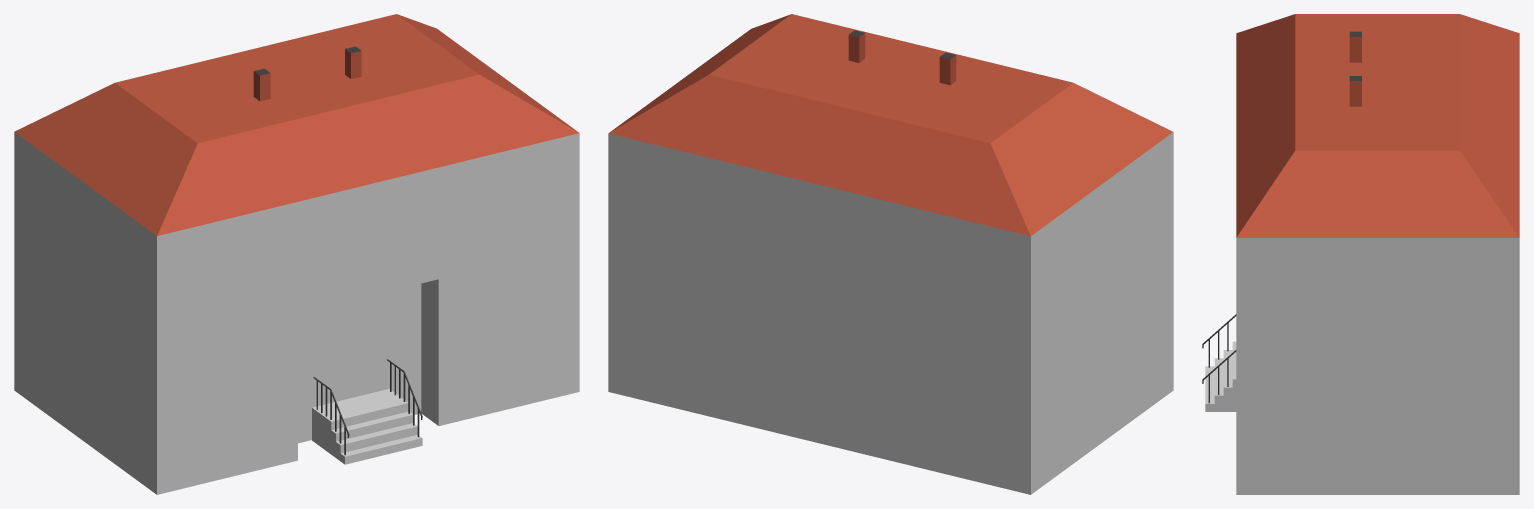
File: Villa.fbx
3 views of the same model, side by side, from view 1: azimuth 30°, elevation 25°; view 2: azimuth 150°, elevation 25°; view 3: azimuth 270°, elevation 25° (orthographic).
Parts seen in each view (by area): view 1: Cube; view 2: Cube; view 3: Cube.
Boxes of the visible parts, x1,y1,x2,y2 form: Cube: (14,14,579,494); Cube: (608,14,1173,494); Cube: (1202,14,1519,494).
Size of the model in its own units: 2667 by 2044 by 1748.
